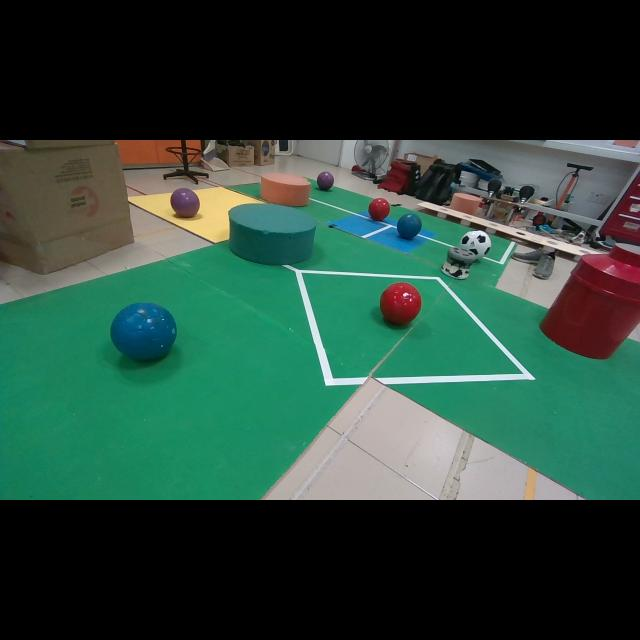B: (110, 304, 176, 360), (396, 214, 421, 239)
P: (170, 189, 200, 218), (316, 171, 334, 190)
R: (380, 282, 421, 324), (369, 198, 390, 221)
